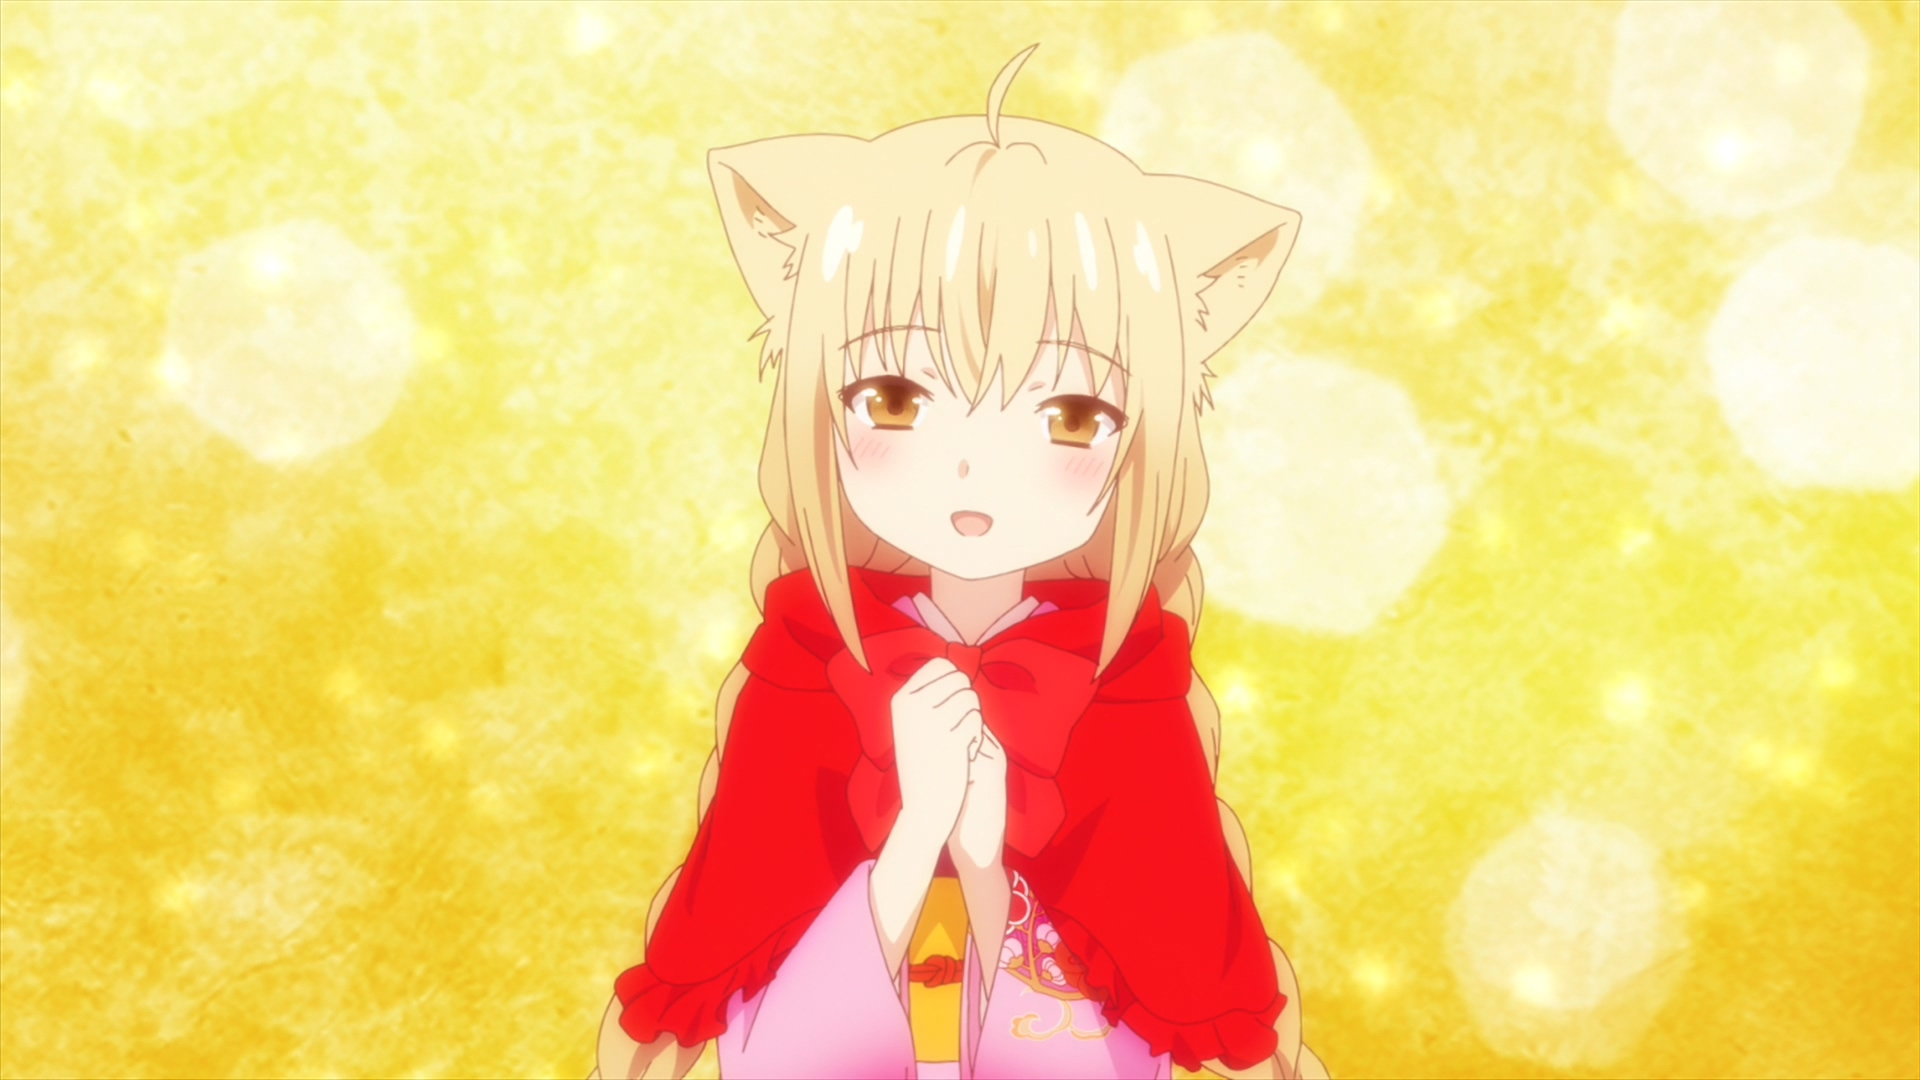柚: (587, 44, 1327, 1080)
